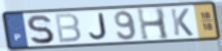9: (113, 9, 138, 41)
B: (53, 12, 83, 45)
H: (135, 7, 171, 42)
J: (88, 12, 109, 41)
K: (169, 7, 195, 37)
S: (26, 14, 56, 46)
